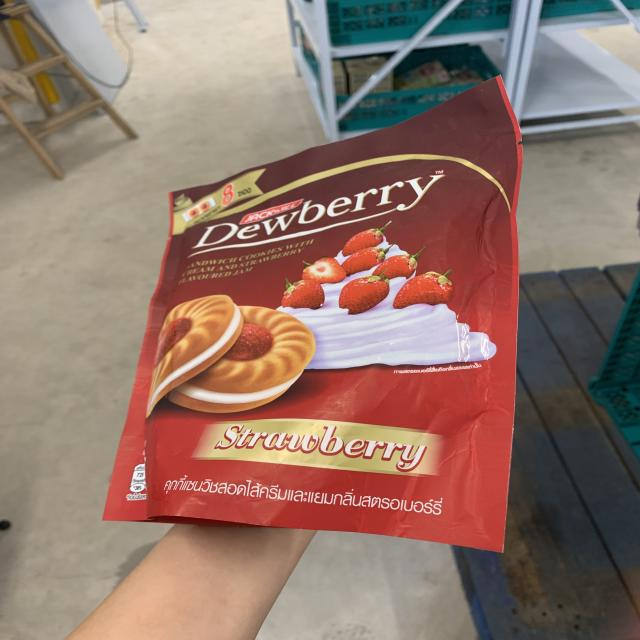object_name: (157, 179, 495, 530)
